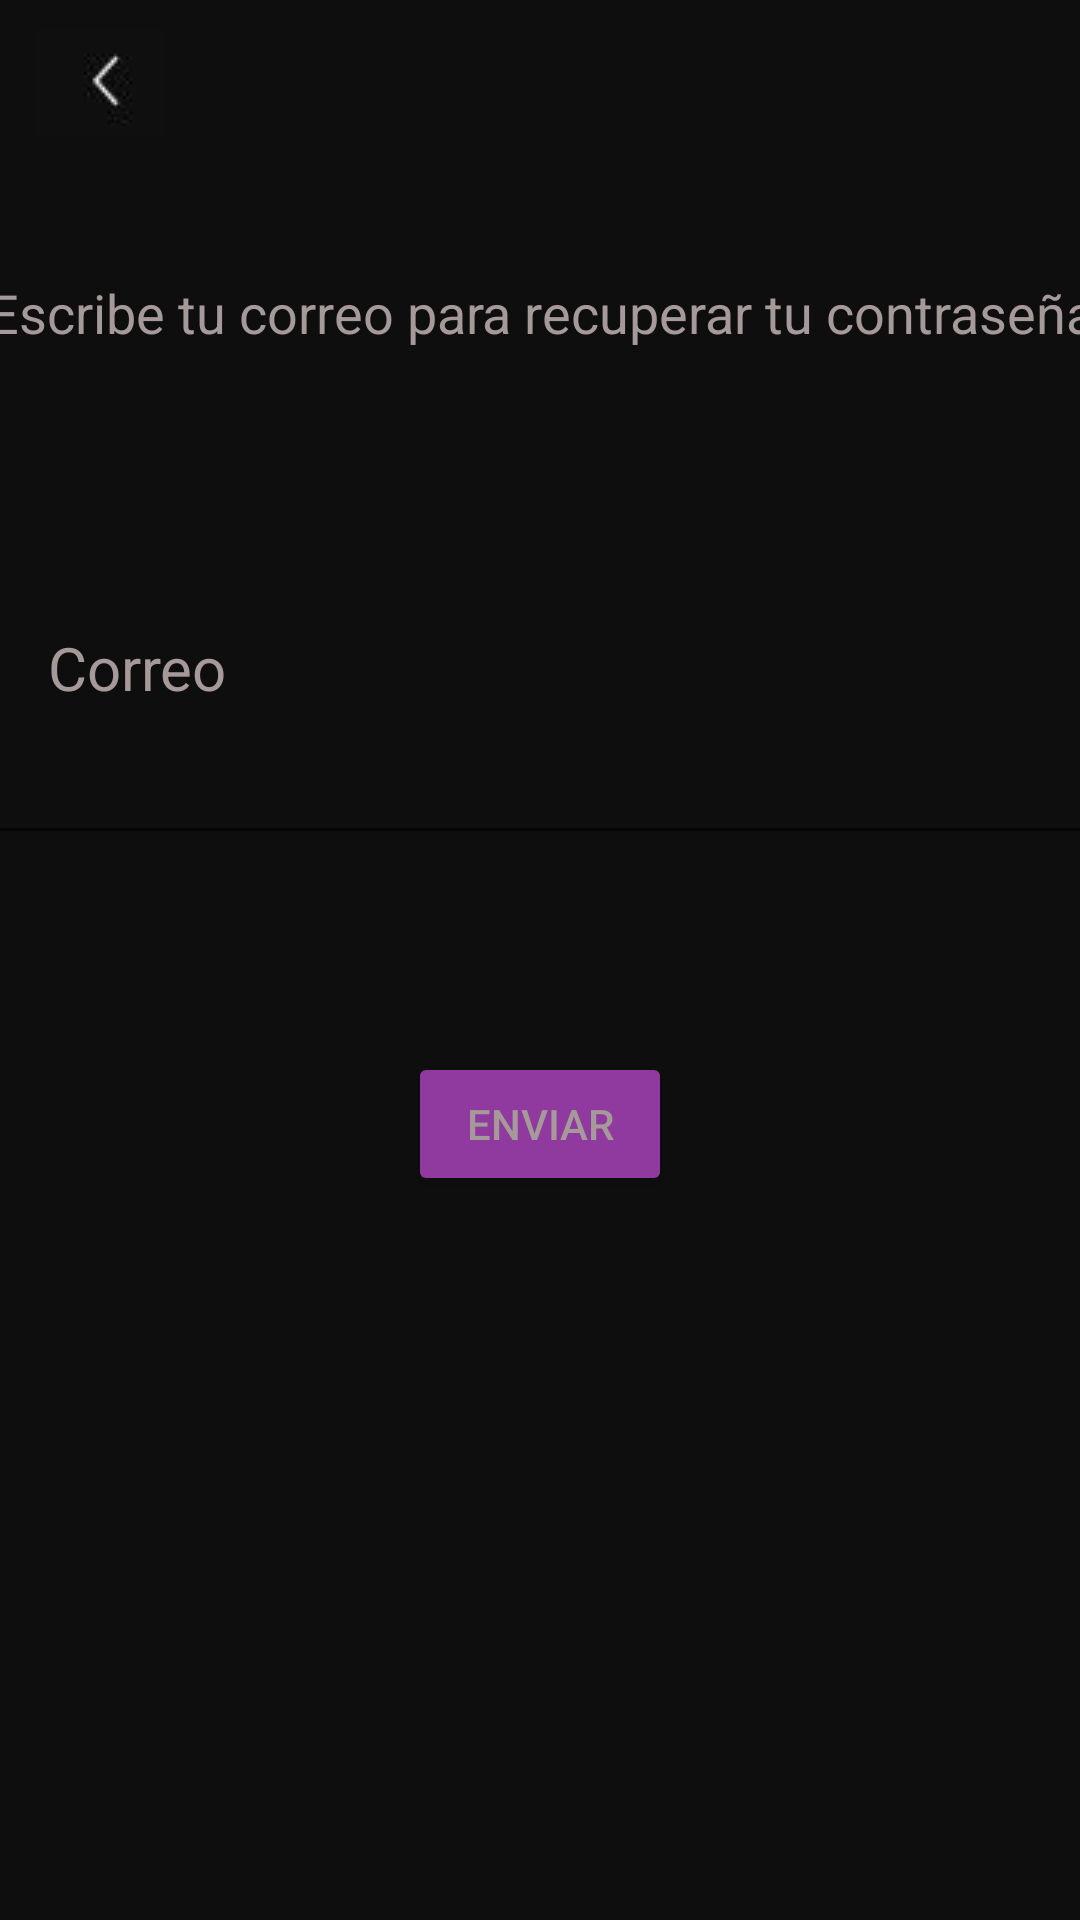

Where icons sit on this 1080w x 1920h app screen, as [x1,y1,x2,y2]:
volver: [92,54,120,106]
